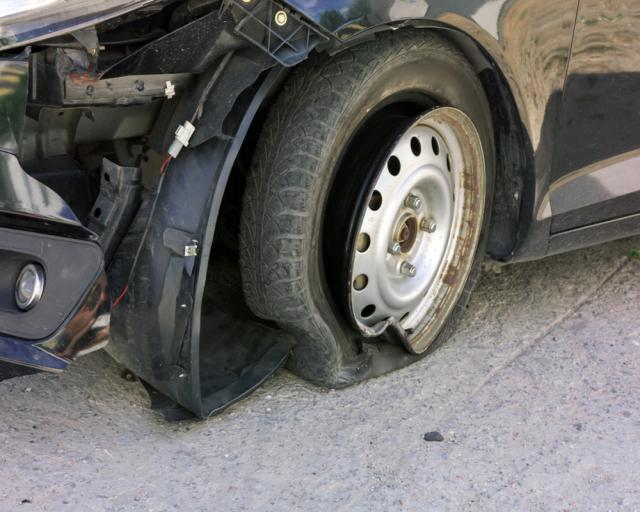tire flat: (242, 30, 496, 389)
